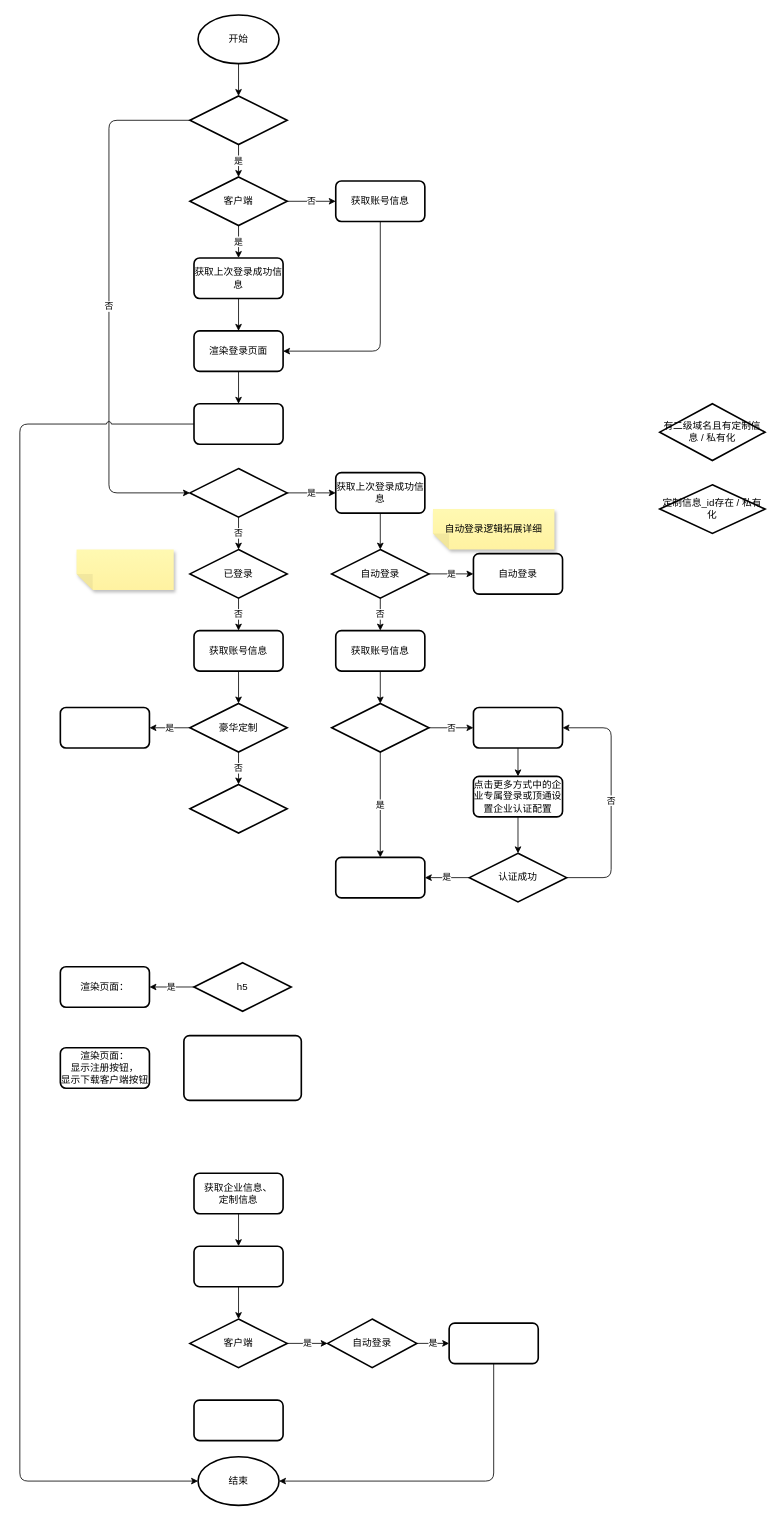
The diagram is 780 pixels wide and 1520 high, and some of its shapes have lost their labels. Each missing label, with the centre of its shape:
"url携带预览参数" belongs at point (238, 120).
"企业专属登录" belongs at point (380, 877).
"判断端别（UA？），客户端" belongs at point (238, 492).
"有企业代码" belongs at point (379, 727).
"渲染豪华定制页面" belongs at point (104, 727).
"渲染页面" belongs at point (238, 1266).
"渲染页面： 显示注册按钮， 显示下载客户端按钮， 显示客服电话" belongs at point (242, 1067).
"自动登录相关逻辑处理" belongs at point (493, 1343).
"需新增接口/用老接口" belongs at point (125, 570).
"非定制" belongs at point (238, 808).
"页面增加蒙层，不可点击" belongs at point (238, 424).
"默认登录" belongs at point (517, 727).
